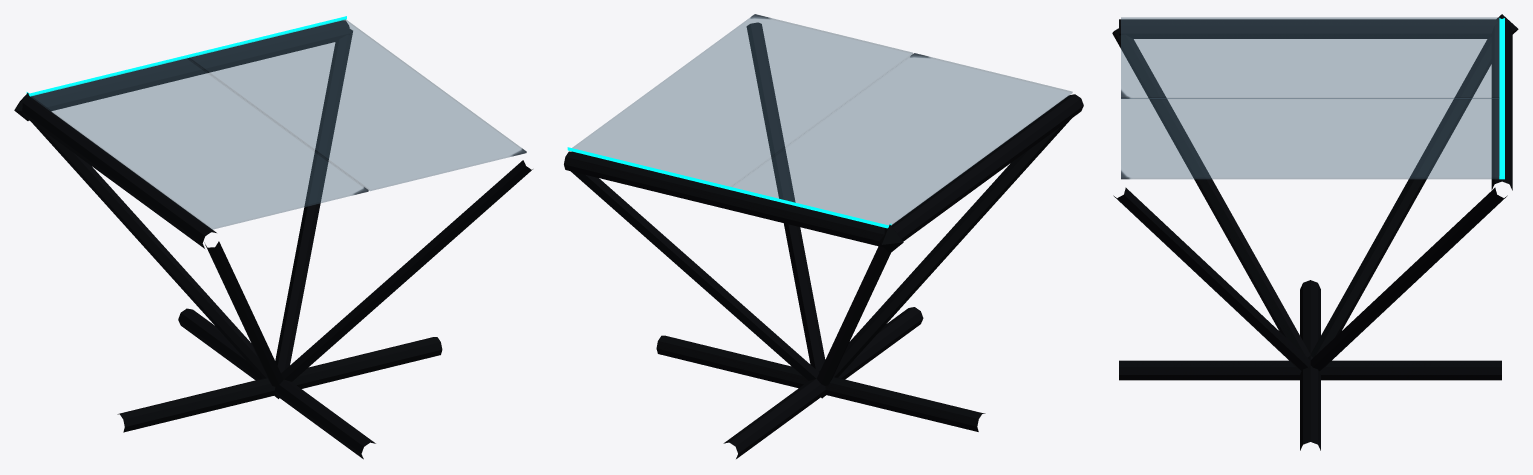
File: tt_struct_roof_bay4.glb
The picture shows the model from 3 angles, left to right: view 1: azimuth 30°, elevation 25°; view 2: azimuth 150°, elevation 25°; view 3: azimuth 270°, elevation 25°; orthographic projection. The views are drawn at different scales.
Visible parts, largest first — view 1: Glass_Bay_Roof, Bay_Frame, Bay_Grid_LED; view 2: Glass_Bay_Roof, Bay_Frame, Bay_Grid_LED; view 3: Glass_Bay_Roof, Bay_Frame, Bay_Grid_LED.
Boxes of the visible parts, x1=… form: Glass_Bay_Roof: x1=31, y1=19, x2=526, y2=229; Bay_Frame: x1=14, y1=20, x2=532, y2=459; Bay_Grid_LED: x1=26, y1=16, x2=346, y2=96; Glass_Bay_Roof: x1=572, y1=14, x2=1072, y2=224; Bay_Frame: x1=564, y1=22, x2=1083, y2=458; Bay_Grid_LED: x1=567, y1=147, x2=891, y2=228; Glass_Bay_Roof: x1=1121, y1=17, x2=1499, y2=179; Bay_Frame: x1=1112, y1=14, x2=1518, y2=450; Bay_Grid_LED: x1=1499, y1=18, x2=1504, y2=179.
Size of the model in its own units: 4.24 by 3.35 by 4.25.
Materials: 3 (2 with a texture image).
